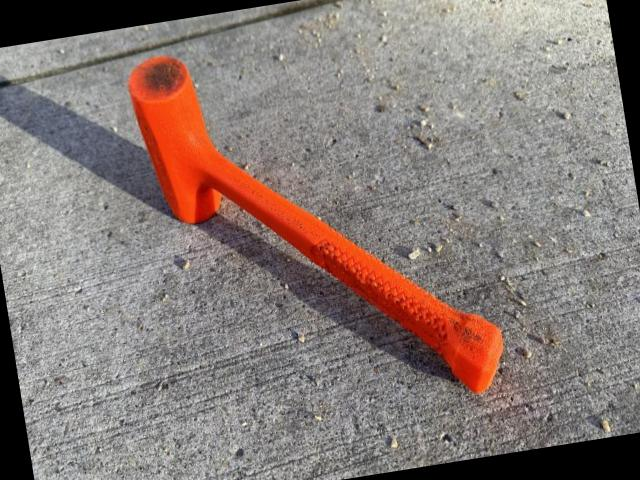hammer: (120, 7, 514, 443)
